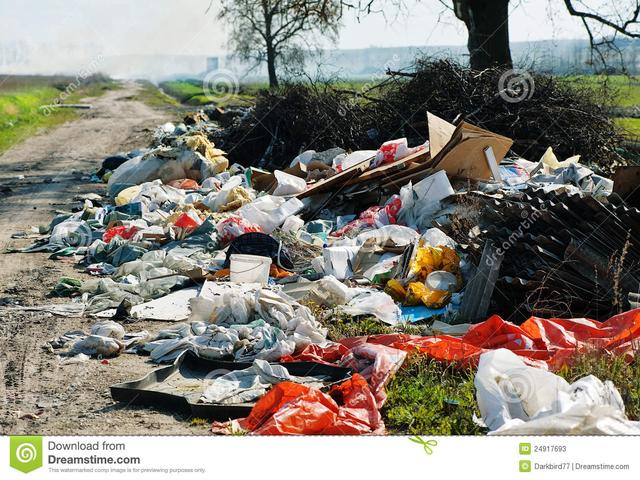garbage: (126, 148, 357, 411), (130, 148, 451, 305)
